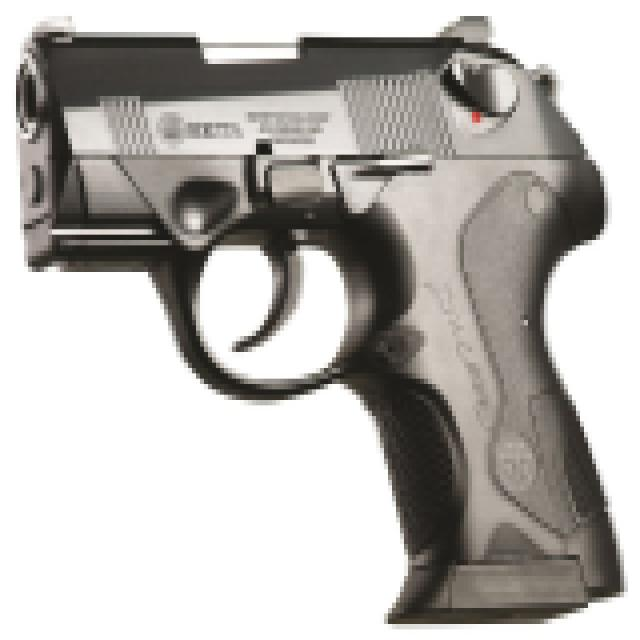Gun: (13, 12, 615, 597)
